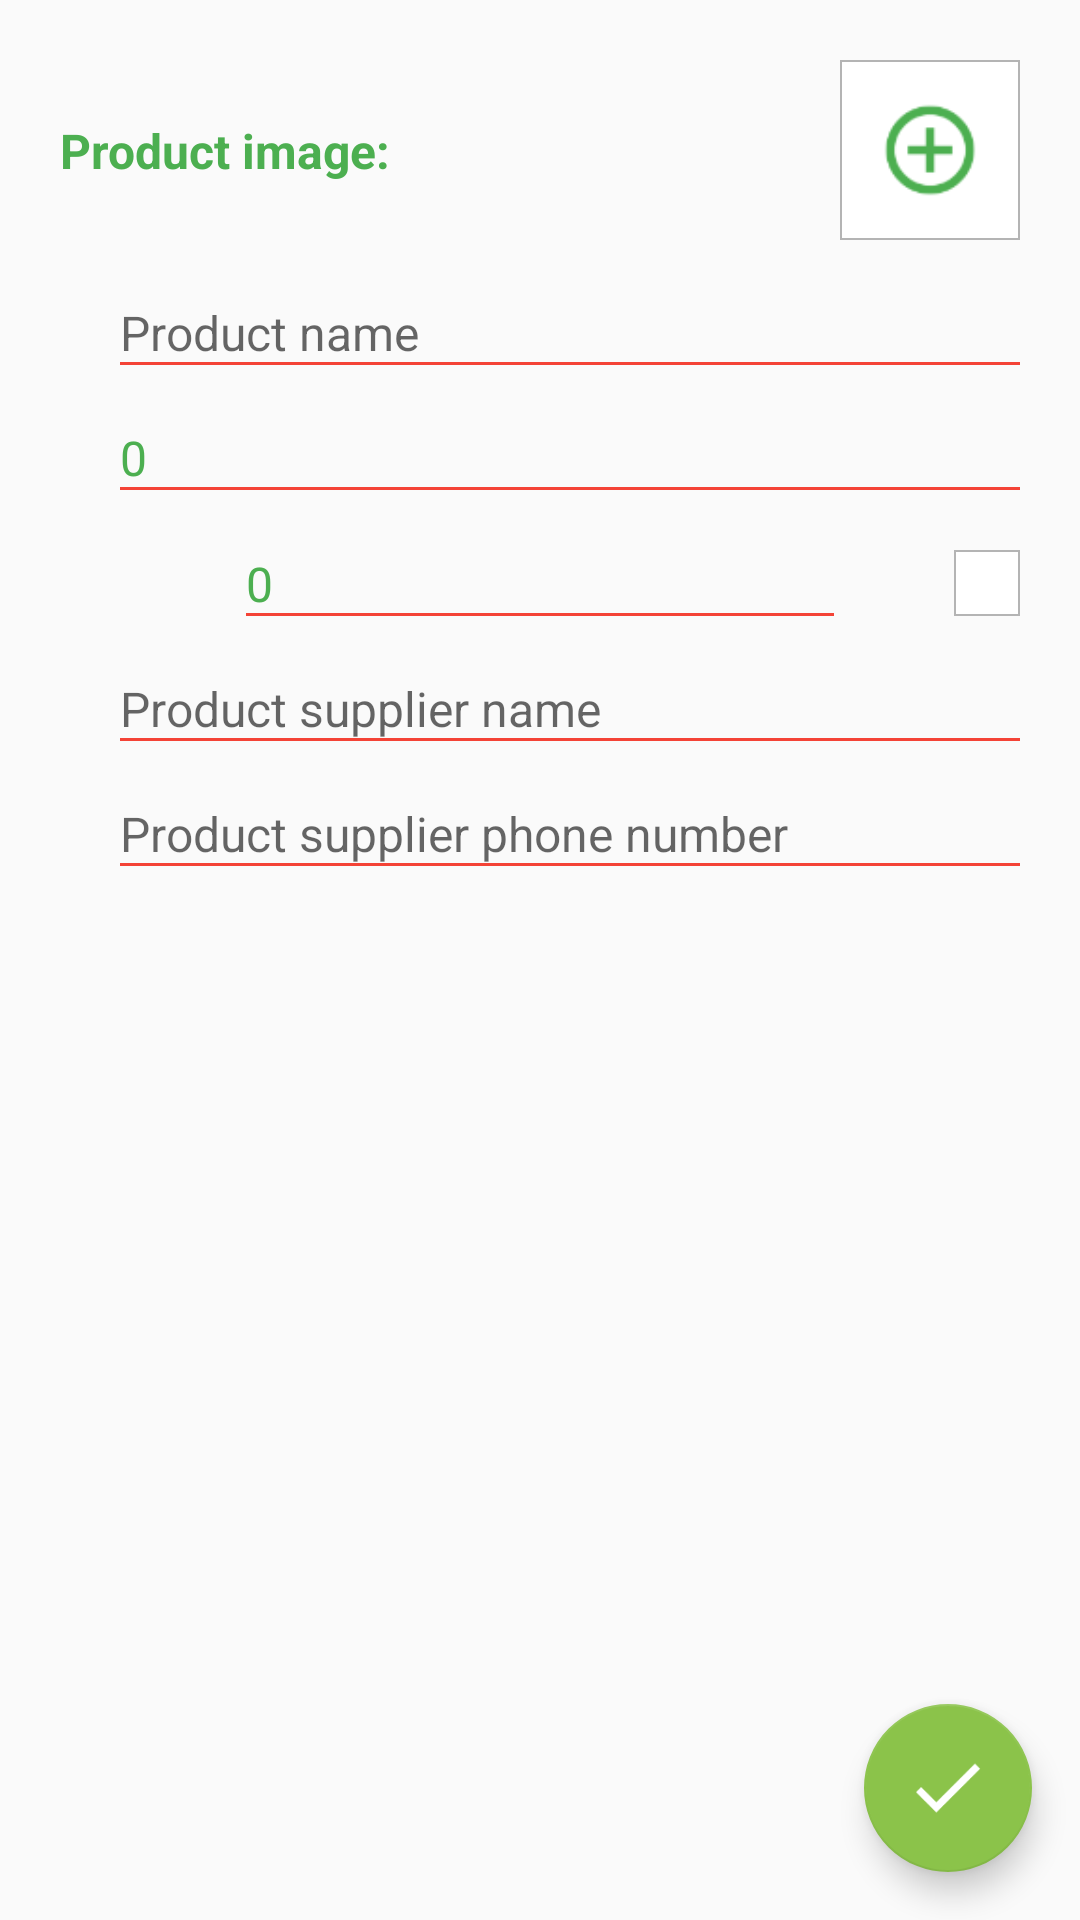

Icon bounding boxes for this 1080px×1920px phone screenshot, format (x1,y1,x2,y2):
add circle: (840,60,1020,240)
check: (864,1704,1032,1872)
